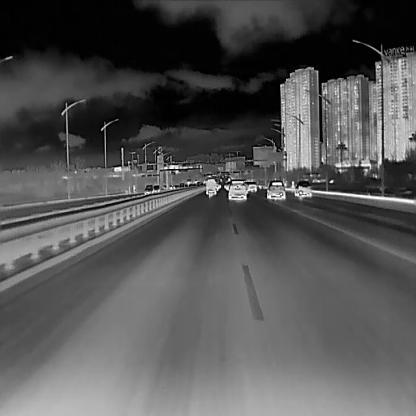car: (266, 180, 285, 200), (228, 180, 246, 200), (294, 180, 311, 197), (205, 177, 216, 195), (246, 182, 256, 192), (145, 185, 152, 194), (152, 184, 159, 192)
